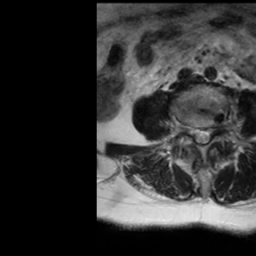CCS_stenosis: (198, 121, 205, 150)
LFS_severe_stenosis: (213, 116, 222, 138)
LLS_normal: (205, 122, 213, 148)
RFS_normal: (184, 117, 191, 141)
RLS_normal: (191, 121, 198, 146)
